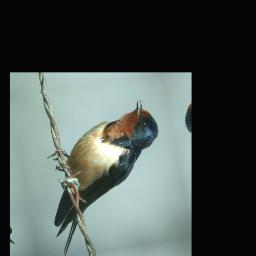Swallow: (35, 97, 178, 256)
